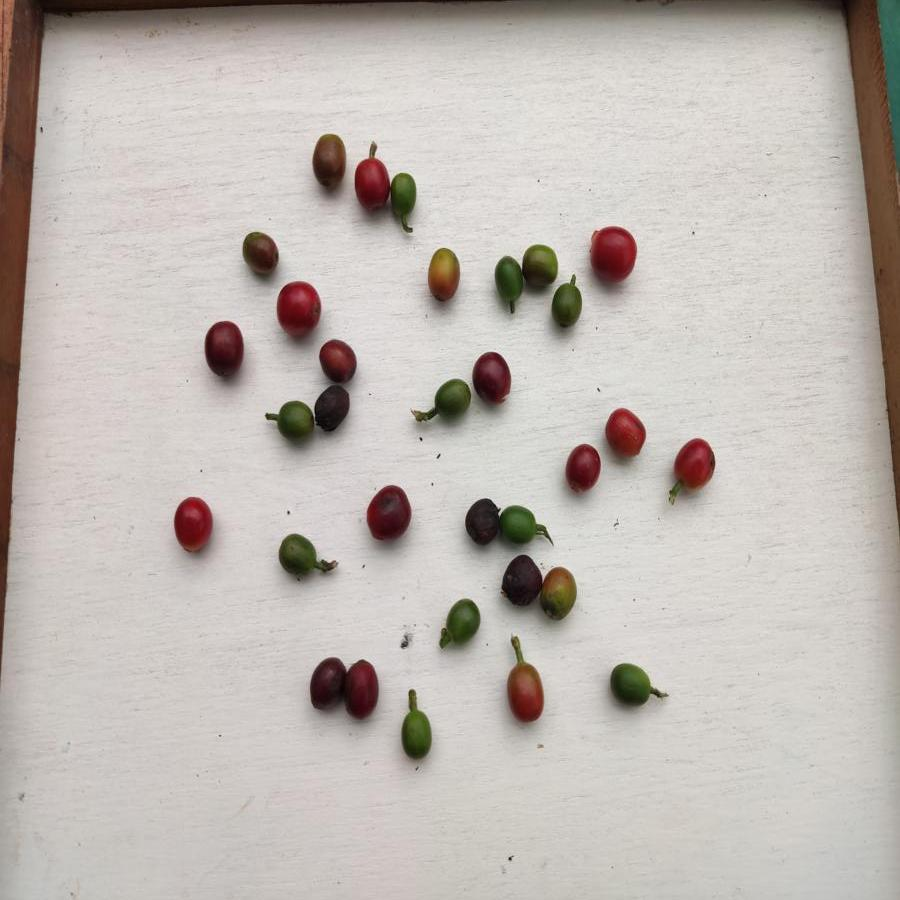Inmaduro: (608, 662, 653, 708), (399, 708, 436, 759), (433, 378, 476, 421), (278, 531, 319, 576), (444, 598, 483, 645), (270, 401, 316, 439), (390, 171, 422, 222), (550, 283, 587, 327), (499, 503, 536, 543), (493, 254, 523, 302)
Maduro: (587, 225, 638, 283), (275, 280, 320, 338), (172, 493, 213, 555), (673, 437, 718, 490), (607, 408, 650, 460), (352, 157, 390, 214), (565, 443, 600, 493)
Pinton: (505, 663, 546, 723), (425, 245, 462, 303), (541, 567, 579, 622), (312, 131, 346, 192), (241, 229, 284, 274), (522, 242, 561, 285)
Sobremaduro: (366, 485, 413, 542), (204, 320, 244, 379), (343, 657, 380, 717), (501, 553, 542, 606), (473, 351, 511, 403), (317, 337, 357, 384), (310, 657, 343, 713), (315, 383, 352, 431), (464, 498, 499, 545)
